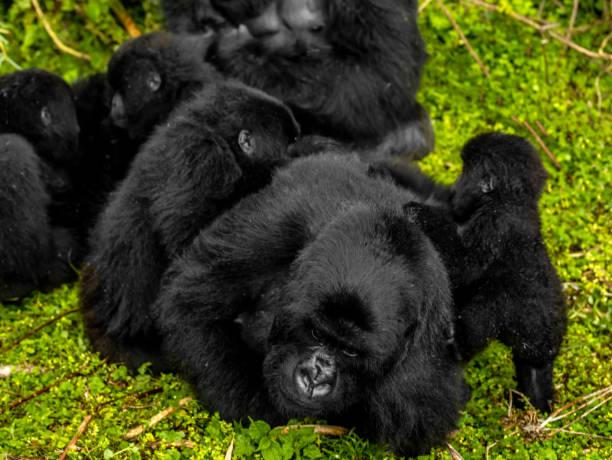goriile_montagne: (170, 142, 480, 456), (449, 135, 585, 399), (124, 84, 300, 258), (0, 71, 93, 275), (91, 41, 206, 153)
